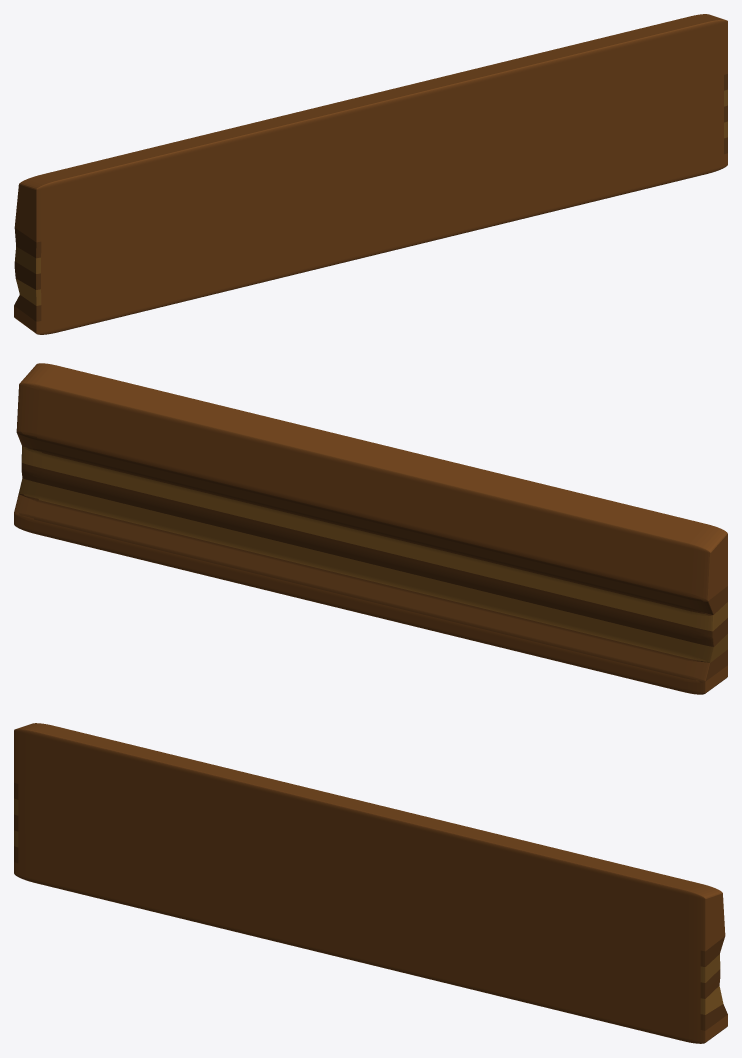
File: SM_Baseboard.fbx
3 renders of one model, top to bottom at view 1: azimuth 30°, elevation 25°; view 2: azimuth 150°, elevation 25°; view 3: azimuth 330°, elevation 25°, orthographic.
Parts seen in each view (by area): view 1: SM_Rodape; view 2: SM_Rodape; view 3: SM_Rodape.
Boxes of the visible parts, left/top/right/bottom form: SM_Rodape: left=14, top=14, right=727, bottom=334; SM_Rodape: left=14, top=363, right=727, bottom=694; SM_Rodape: left=14, top=723, right=727, bottom=1043.
Size of the model in its own units: 179 by 37.34 by 10.57.
